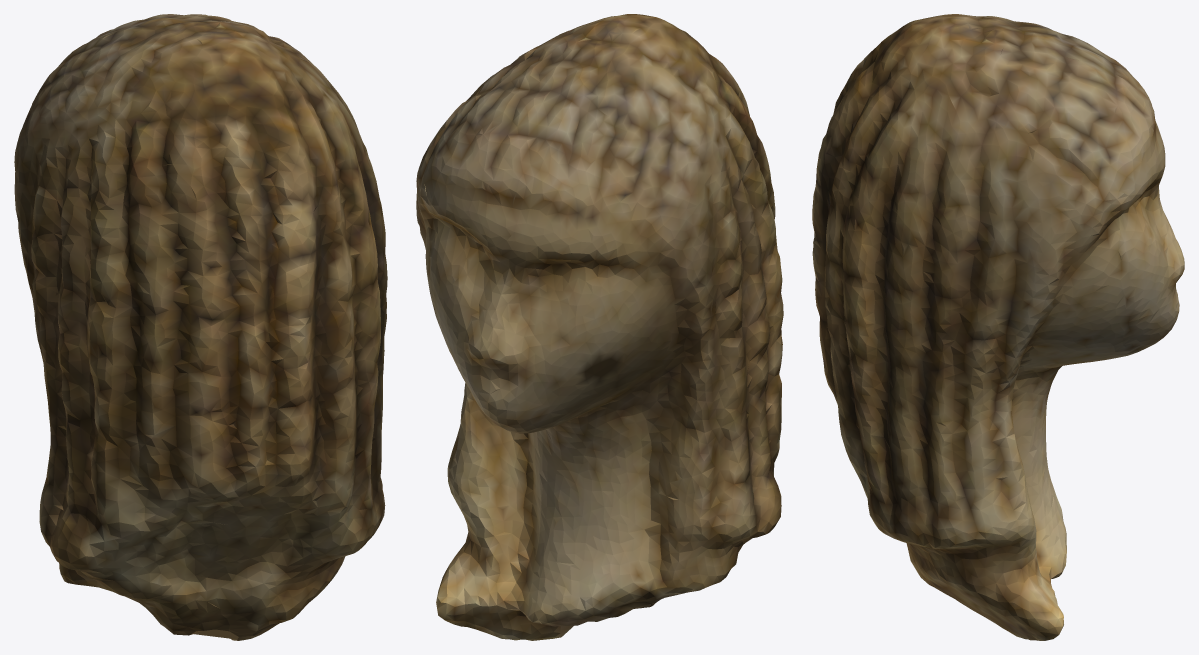
The model's file is la_dame_de_brassempouy_centered.glb.
The picture shows the model from 3 angles, left to right: view 1: azimuth 30°, elevation 25°; view 2: azimuth 150°, elevation 25°; view 3: azimuth 270°, elevation 25°; orthographic projection. The views are drawn at different scales.
Visible parts, largest first — view 1: La Dame de Brassempouy; view 2: La Dame de Brassempouy; view 3: La Dame de Brassempouy.
Part boxes in pixels (<box>): La Dame de Brassempouy: <box>14,14,387,640</box>; La Dame de Brassempouy: <box>416,14,783,640</box>; La Dame de Brassempouy: <box>812,14,1184,640</box>.
Size of the model in its own units: 49.06 by 91.48 by 53.85.
